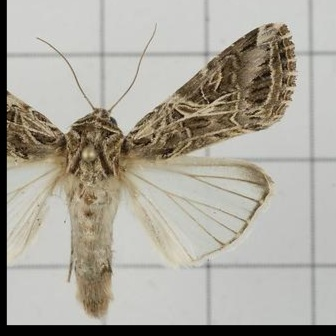Spodoptera litura: (7, 23, 298, 319)
